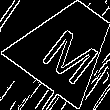M_NE: (32, 13, 101, 81)
